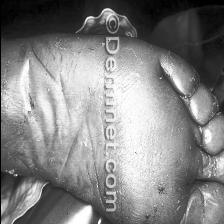Non-Cancerous Skin Condition: (24, 92, 34, 116), (154, 180, 168, 196), (142, 211, 152, 224)
